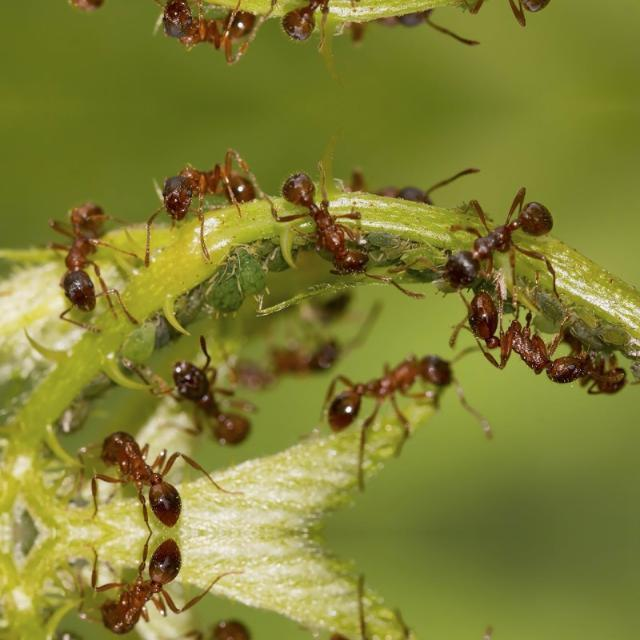Myrmica: (318, 324, 474, 456), (73, 401, 194, 524), (146, 140, 276, 252), (278, 159, 390, 285), (419, 204, 571, 296), (464, 293, 590, 393), (172, 339, 272, 463), (72, 540, 192, 640), (48, 182, 119, 344), (235, 300, 339, 406), (146, 0, 276, 72), (564, 314, 636, 406), (276, 0, 389, 52), (318, 608, 474, 640), (172, 600, 272, 640)
